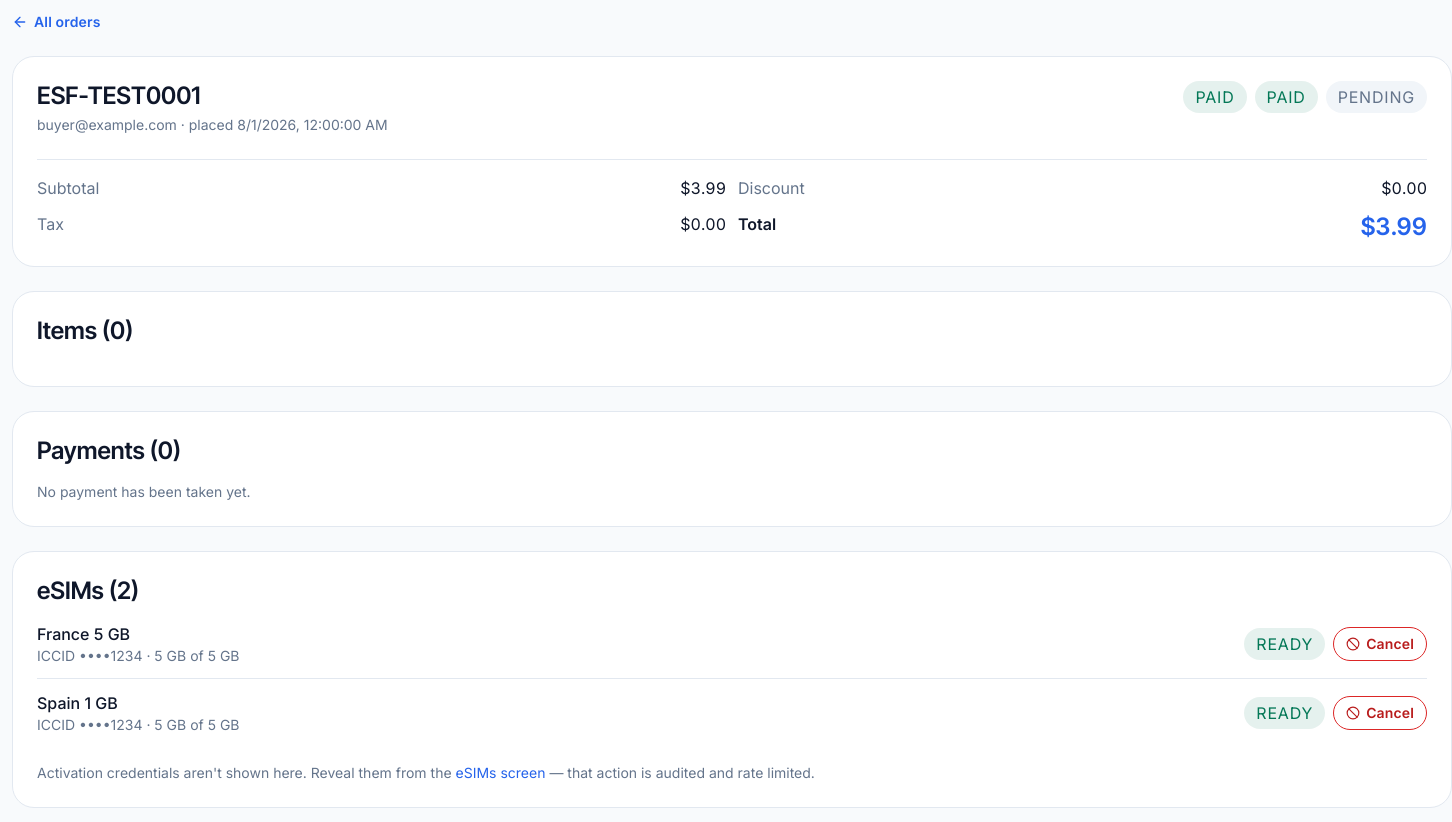
Test: cancelling an eSIM from the order page › arms only the row that was clicked
Click the 1st button named "cancel": (1380, 644) [1333,627,1427,661]
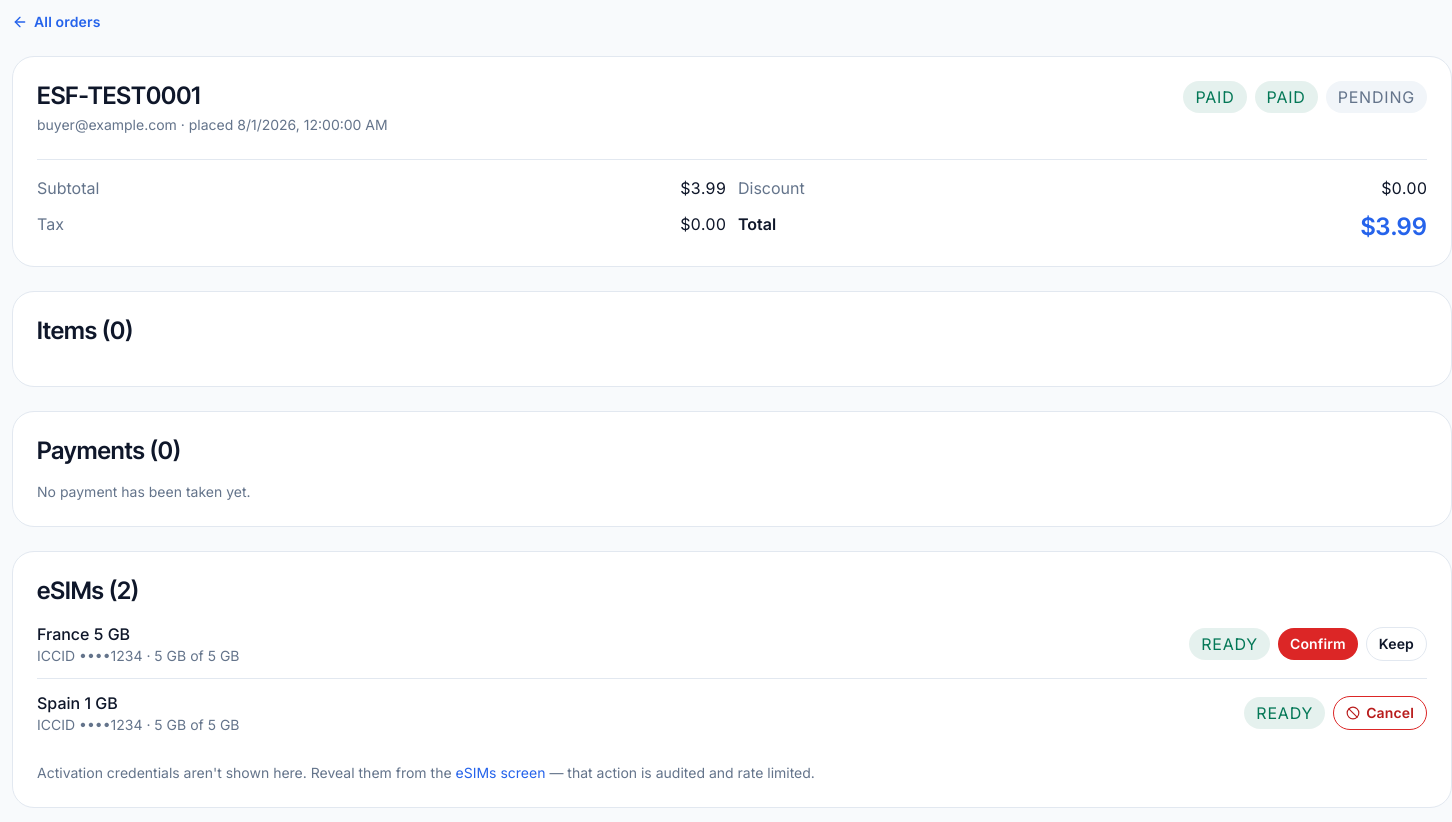
Expected: the number of buttons named "cancel" is 1, [1333,696,1427,730]
Result: the number of buttons named "confirm" is 1 at [1278,628,1358,660]
